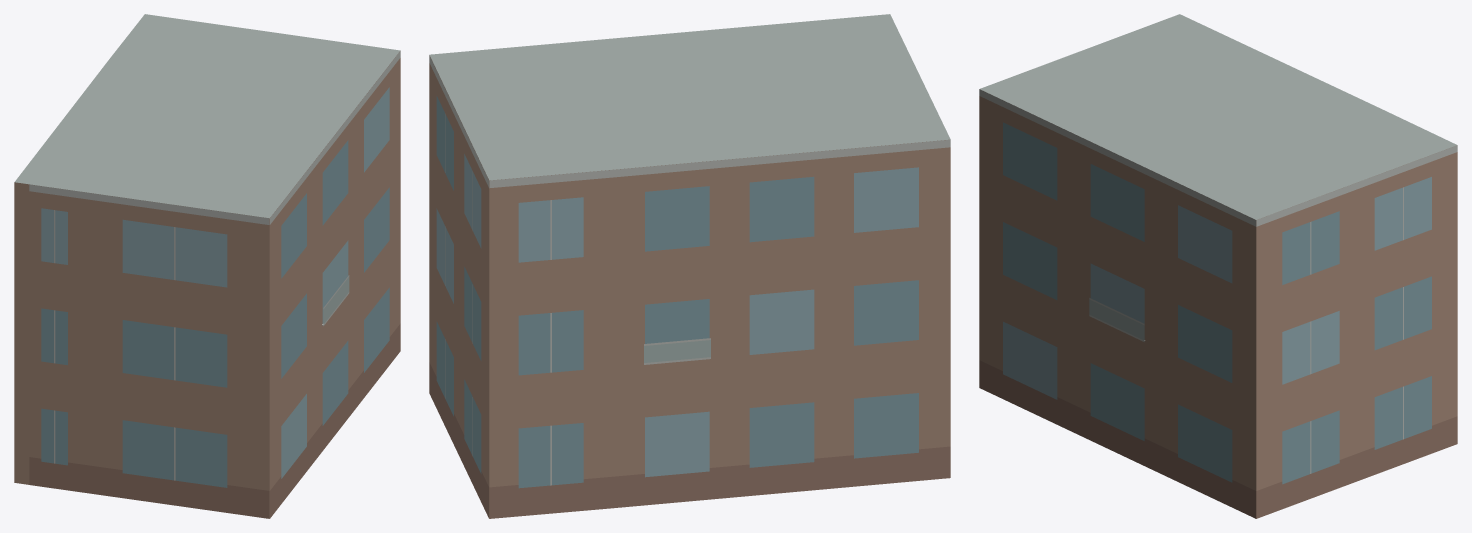
Rendered from survey-upis-32840195.glb.
3 renders of one model, left to right at view 1: azimuth 30°, elevation 25°; view 2: azimuth 150°, elevation 25°; view 3: azimuth 270°, elevation 25°, orthographic. The views are drawn at different scales.
Visible parts, largest first — view 1: survey-upis-32840195.tmp; view 2: survey-upis-32840195.tmp; view 3: survey-upis-32840195.tmp.
Part boxes in pixels (x1,y1,x2,y2): survey-upis-32840195.tmp: [14, 14, 400, 518]; survey-upis-32840195.tmp: [429, 14, 950, 518]; survey-upis-32840195.tmp: [979, 14, 1457, 518].
Size of the model in its own units: 15.75 by 10.65 by 15.45.
